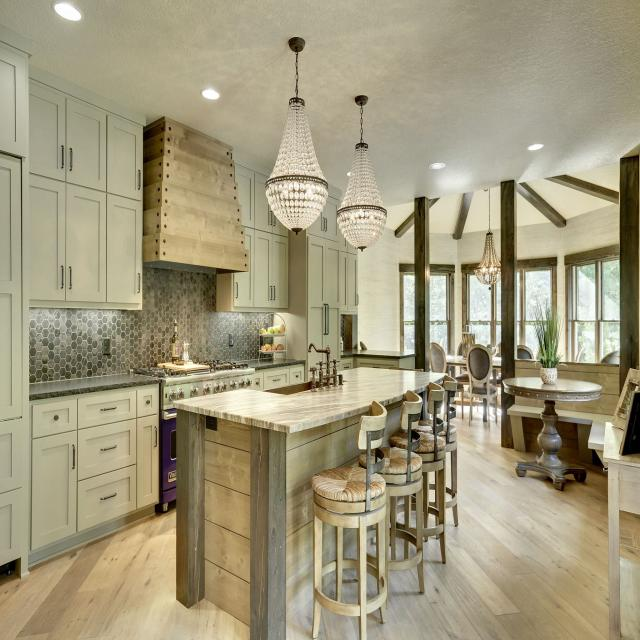Appliance_Oven: (162, 364, 266, 504)
Appliance_Sink: (265, 348, 336, 395)
Cabinet_Shaker: (0, 42, 161, 576), (218, 163, 359, 354)
Countertop_Concrete: (29, 374, 161, 401), (230, 360, 301, 369)
Countertop_Marble: (175, 368, 439, 434)
